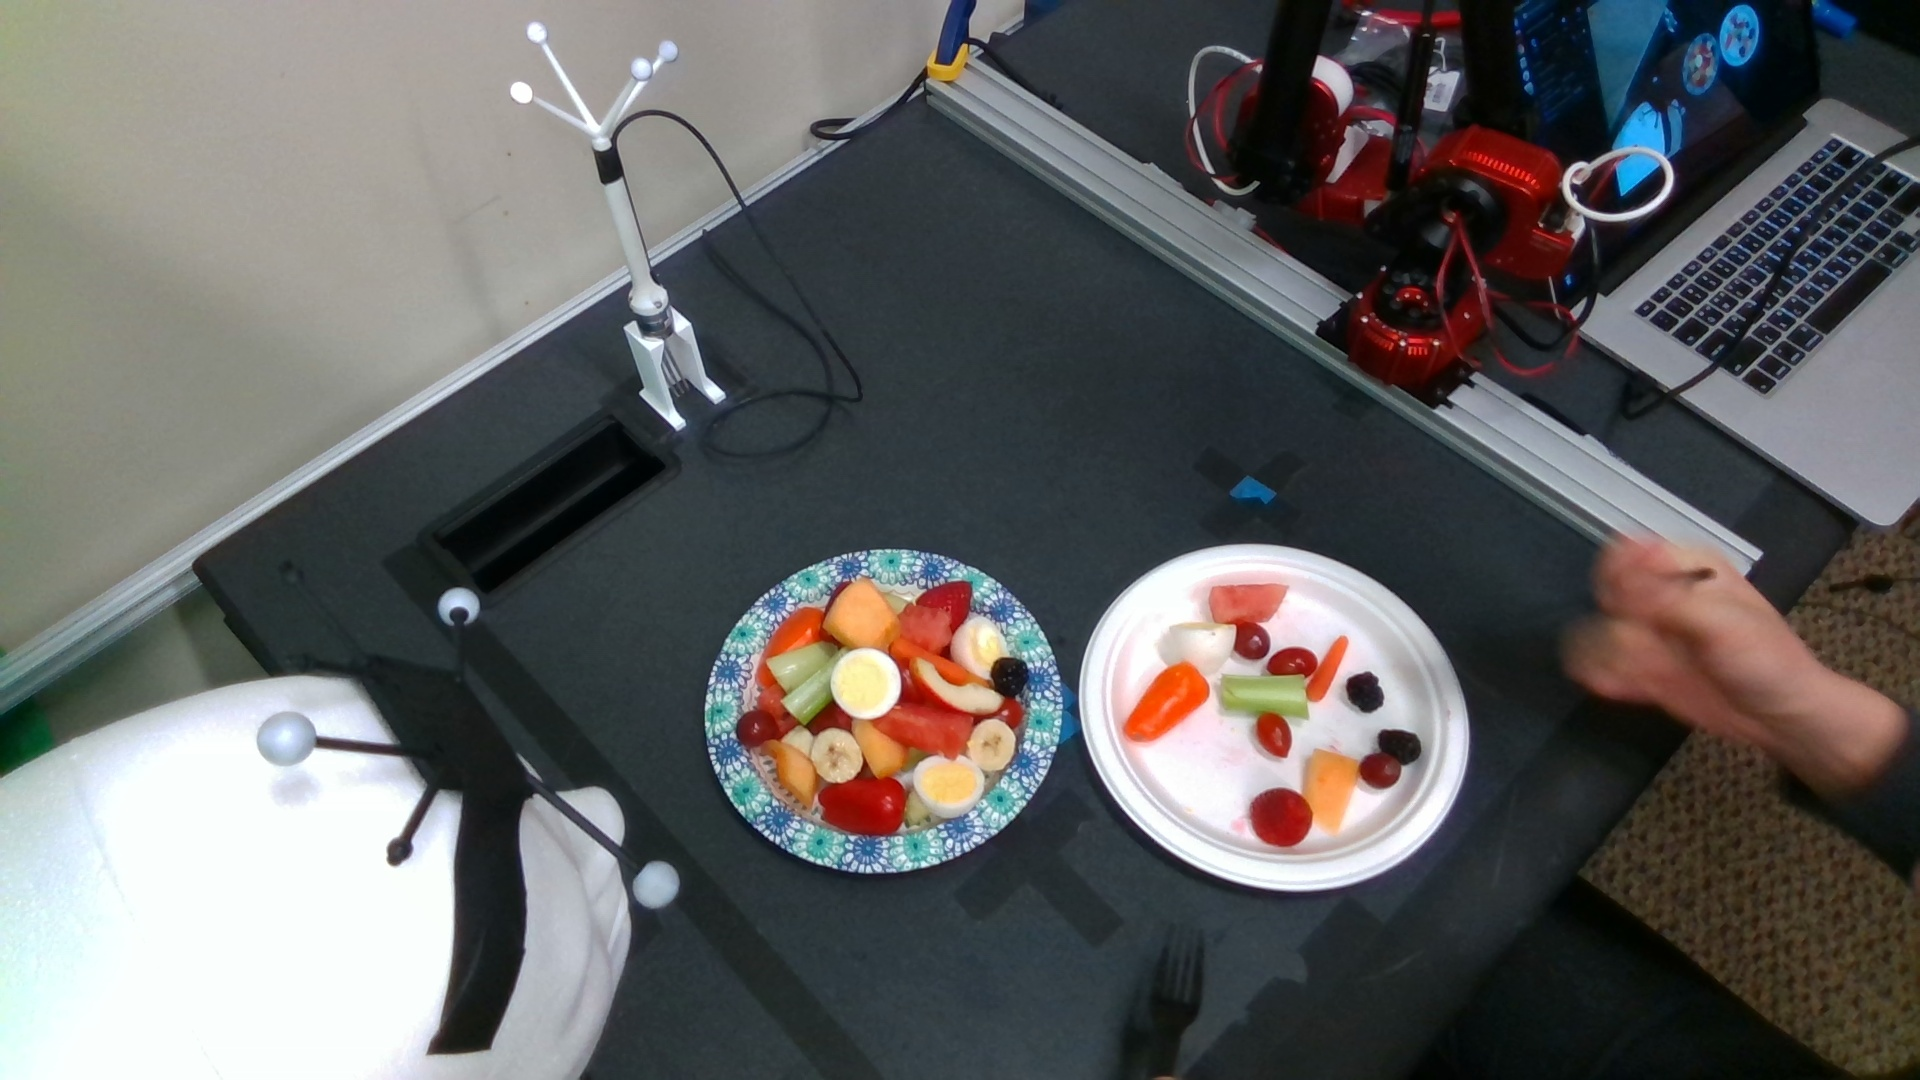apple: (910, 655, 1006, 715)
banana: (811, 727, 861, 785), (964, 717, 1015, 771)
bell pepper: (1125, 663, 1211, 742), (819, 777, 905, 836), (771, 607, 824, 657)
blackberry: (1346, 671, 1385, 711), (1379, 731, 1423, 764), (992, 659, 1027, 696)
cantalope: (824, 576, 895, 651), (1302, 750, 1358, 833), (761, 741, 819, 811)
carrot: (1307, 634, 1349, 702)
celery: (1218, 673, 1309, 720), (785, 644, 840, 720), (762, 646, 837, 692)
cherry tomato: (1265, 647, 1317, 679), (1257, 713, 1292, 758), (736, 712, 778, 746)
egg: (829, 650, 901, 720), (913, 754, 986, 820), (949, 615, 1013, 683), (1168, 624, 1237, 673)
grape: (1236, 622, 1270, 659), (1364, 753, 1399, 787)
melon: (872, 702, 971, 756), (1208, 585, 1291, 624)
plate: (1076, 542, 1472, 891), (703, 547, 1063, 872)
strawberry: (1249, 789, 1313, 847), (914, 580, 971, 637)
